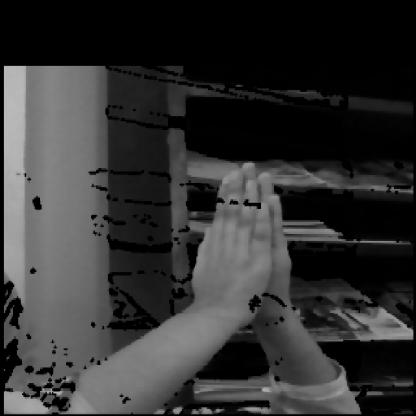namaste: (164, 152, 322, 366)
